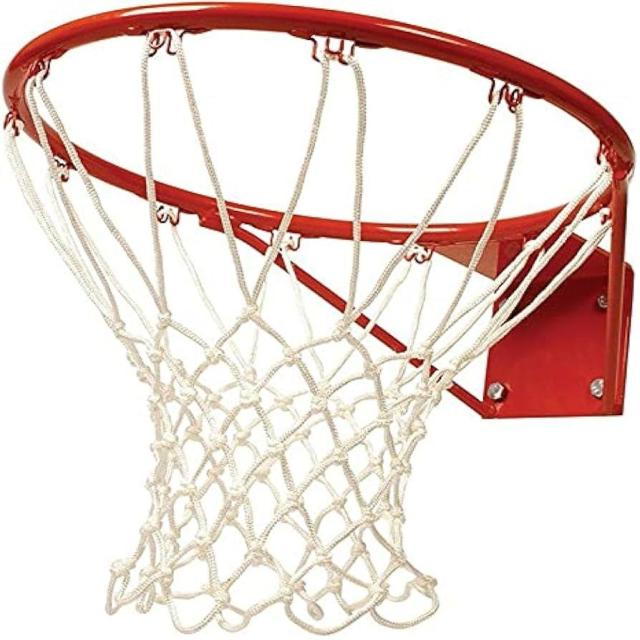hoop: (18, 11, 626, 618)
